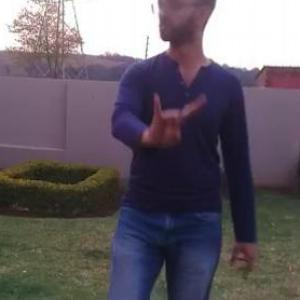takeoff-hand: (144, 86, 212, 154)
